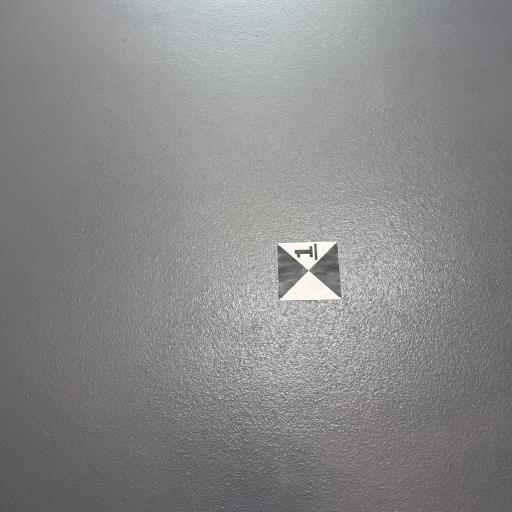target1: (275, 239, 343, 304)
